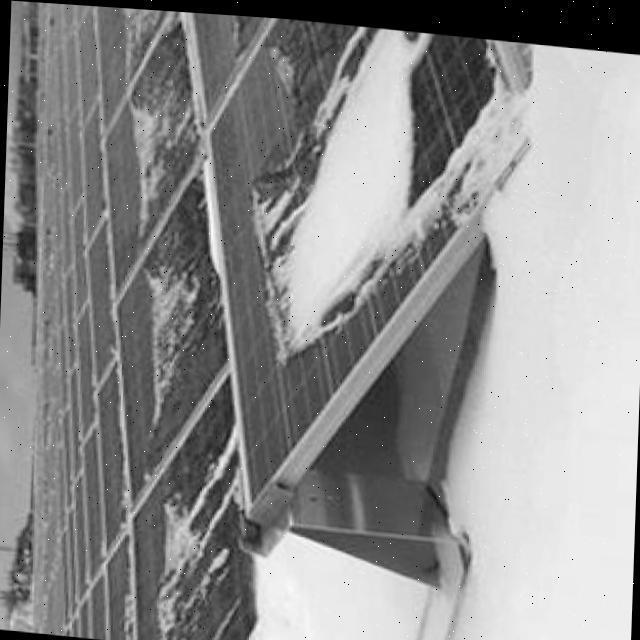Anomaly Solar Panel: (206, 14, 523, 502), (113, 140, 229, 510), (128, 365, 260, 640), (101, 9, 204, 294), (95, 5, 170, 130)
Snow: (235, 18, 523, 366), (147, 391, 243, 640), (116, 10, 205, 236), (137, 219, 212, 424), (117, 6, 155, 74)
